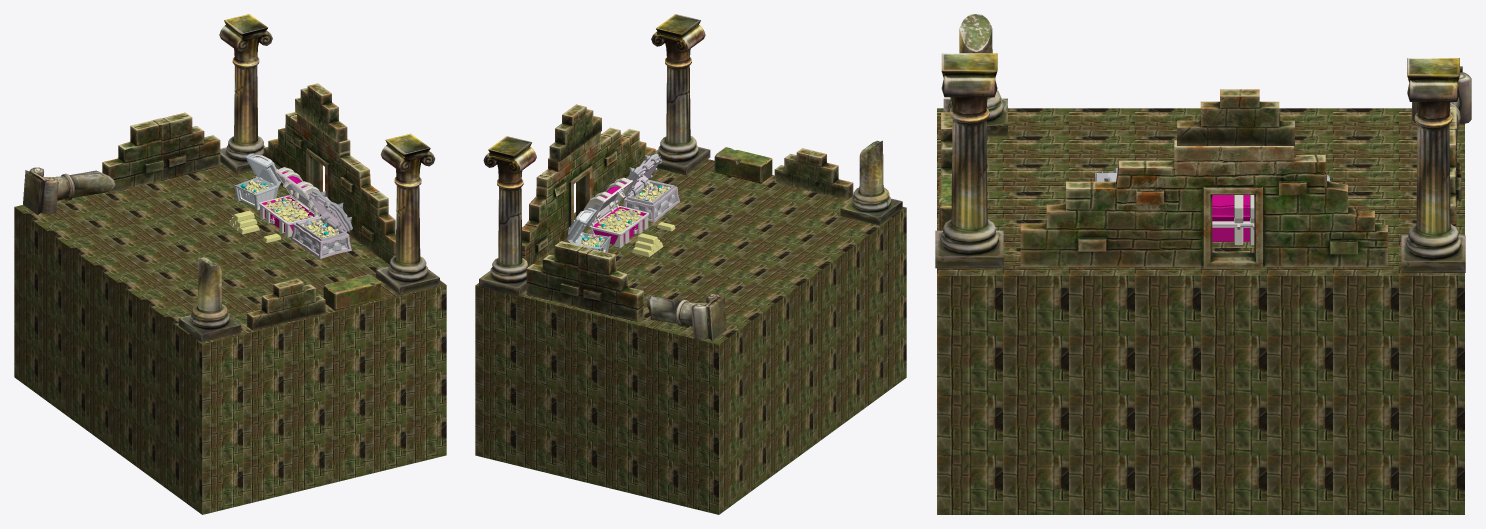
File: TitleRuin.fbx
3 views of the same model, side by side, from view 1: azimuth 30°, elevation 25°; view 2: azimuth 150°, elevation 25°; view 3: azimuth 270°, elevation 25° (orthographic). The views are drawn at different scales.
Visible parts, largest first — view 1: wall_1, column_, column___1_, wall_3, wall_3__1_, Cube__79_, Cube__79__3, Cube__79__1, Cube__79__2, column_3, column_2, wall_2 (+82 smaller); view 2: wall_1, column_, column___1_, wall_3__1_, Cube__73_, Cube__73__1, Cube__73__2, Cube__73__3, column_3, wall_3, wall_2, column_2 (+78 smaller); view 3: wall_1, column_, column___1_, wall_2__1_, Cube__70_, Cube__48_, Cube__72_, Cube__46_, Cube__58_, Cube__60_, Cube__84_, Cube__78_ (+50 smaller).
Boxes of the visible parts, left/top/right/bottom form: wall_1: left=263, top=112, right=395, bottom=264; column_: left=376, top=133, right=439, bottom=294; column___1_: left=219, top=14, right=272, bottom=174; wall_3: left=155, top=112, right=220, bottom=180; wall_3__1_: left=102, top=118, right=166, bottom=193; Cube__79_: left=179, top=327, right=242, bottom=386; Cube__79__3: left=179, top=455, right=242, bottom=514; Cube__79__1: left=179, top=370, right=242, bottom=429; Cube__79__2: left=179, top=413, right=242, bottom=472; column_3: left=178, top=257, right=241, bottom=342; column_2: left=23, top=167, right=115, bottom=215; wall_2: left=247, top=278, right=325, bottom=330; wall_1: left=522, top=127, right=655, bottom=266; column_: left=651, top=14, right=710, bottom=174; column___1_: left=479, top=136, right=536, bottom=296; wall_3__1_: left=578, top=249, right=643, bottom=321; Cube__73_: left=678, top=324, right=742, bottom=387; Cube__73__1: left=678, top=370, right=742, bottom=429; Cube__73__2: left=678, top=413, right=742, bottom=472; Cube__73__3: left=678, top=455, right=742, bottom=514; column_3: left=840, top=140, right=902, bottom=225; wall_3: left=526, top=241, right=592, bottom=307; wall_2: left=774, top=148, right=853, bottom=199; column_2: left=646, top=293, right=726, bottom=341; wall_1: left=1020, top=140, right=1387, bottom=268; column_: left=935, top=53, right=1003, bottom=268; column___1_: left=1401, top=58, right=1465, bottom=272; wall_2__1_: left=1177, top=89, right=1294, bottom=146; Cube__70_: left=1003, top=248, right=1068, bottom=335; Cube__48_: left=1333, top=248, right=1398, bottom=335; Cube__72_: left=1201, top=248, right=1266, bottom=335; Cube__46_: left=1135, top=267, right=1200, bottom=335; Cube__58_: left=1069, top=267, right=1134, bottom=335; Cube__60_: left=1267, top=267, right=1332, bottom=335; Cube__84_: left=937, top=268, right=1002, bottom=335; Cube__78_: left=1399, top=248, right=1464, bottom=335.
Bounding box in the file's own units: 42.5 × 51.45 × 57.56.
